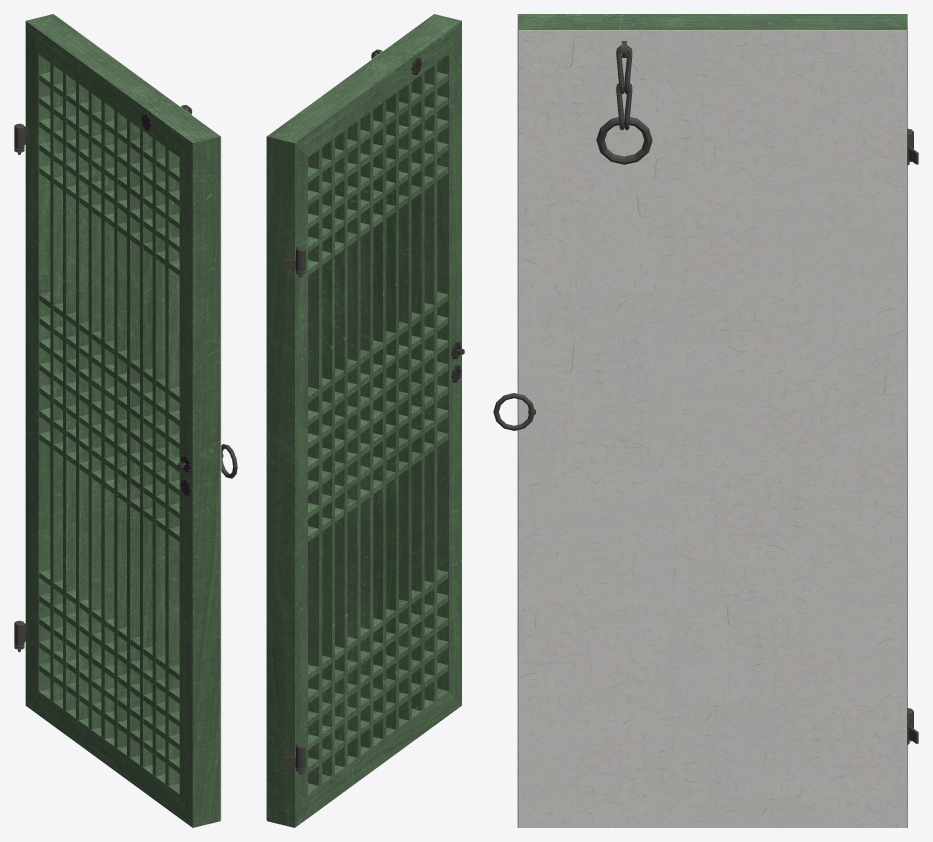
The model's file is SM_Door02D.fbx.
The picture shows the model from 3 angles, left to right: view 1: azimuth 30°, elevation 25°; view 2: azimuth 150°, elevation 25°; view 3: azimuth 270°, elevation 25°; orthographic projection. The views are drawn at different scales.
Visible parts, largest first — view 1: SM_Door02D; view 2: SM_Door02D; view 3: SM_Door02D.
Part boxes in pixels (box(x1,y1,x2,y2)): SM_Door02D: box(14, 14, 237, 827); SM_Door02D: box(266, 14, 464, 827); SM_Door02D: box(493, 14, 918, 827).
Bounding box in the file's own units: 10.9 × 60.72 × 126.
